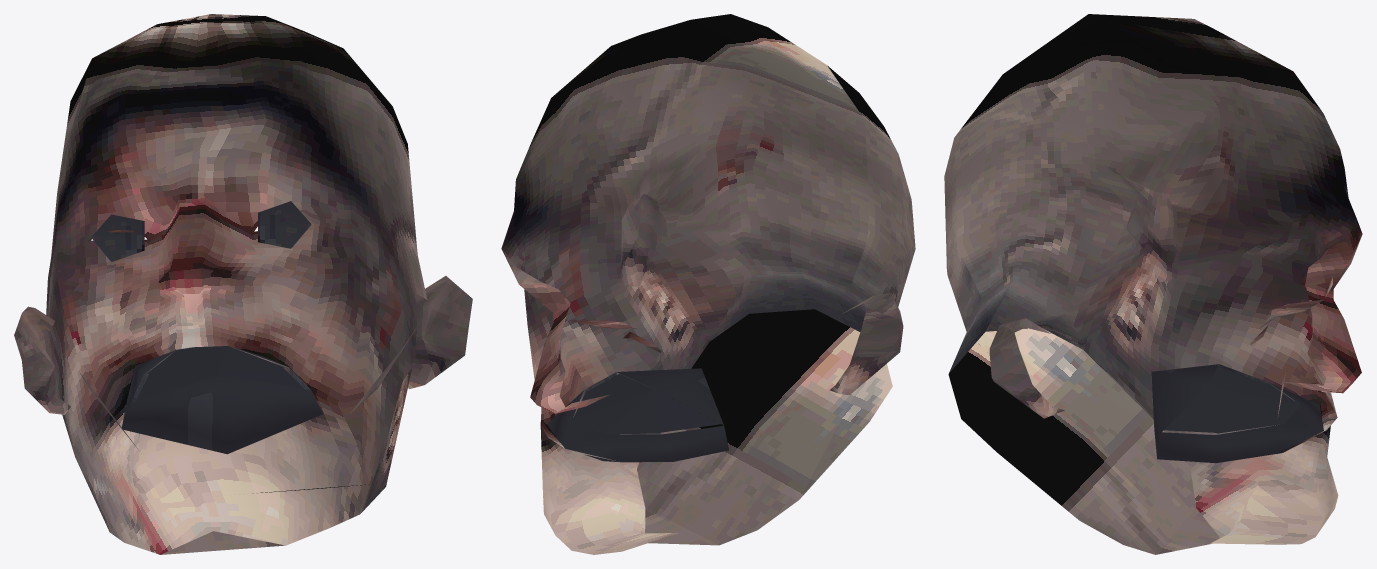
The model's file is ps2_save-icons_cold-fear.glb.
3 views of the same model, side by side, from view 1: azimuth 30°, elevation 25°; view 2: azimuth 150°, elevation 25°; view 3: azimuth 270°, elevation 25° (orthographic). The views are drawn at different scales.
Visible parts, largest first — view 1: ColdFear.ico; view 2: ColdFear.ico; view 3: ColdFear.ico.
Boxes of the visible parts, x1,y1,x2,y2 form: ColdFear.ico: [14, 14, 472, 554]; ColdFear.ico: [501, 14, 915, 554]; ColdFear.ico: [944, 14, 1362, 554].
Size of the model in its own units: 3.18 by 4.27 by 3.27.
1 material, 1 textured.
